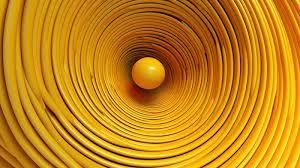yellow_circle: (124, 50, 175, 99)
